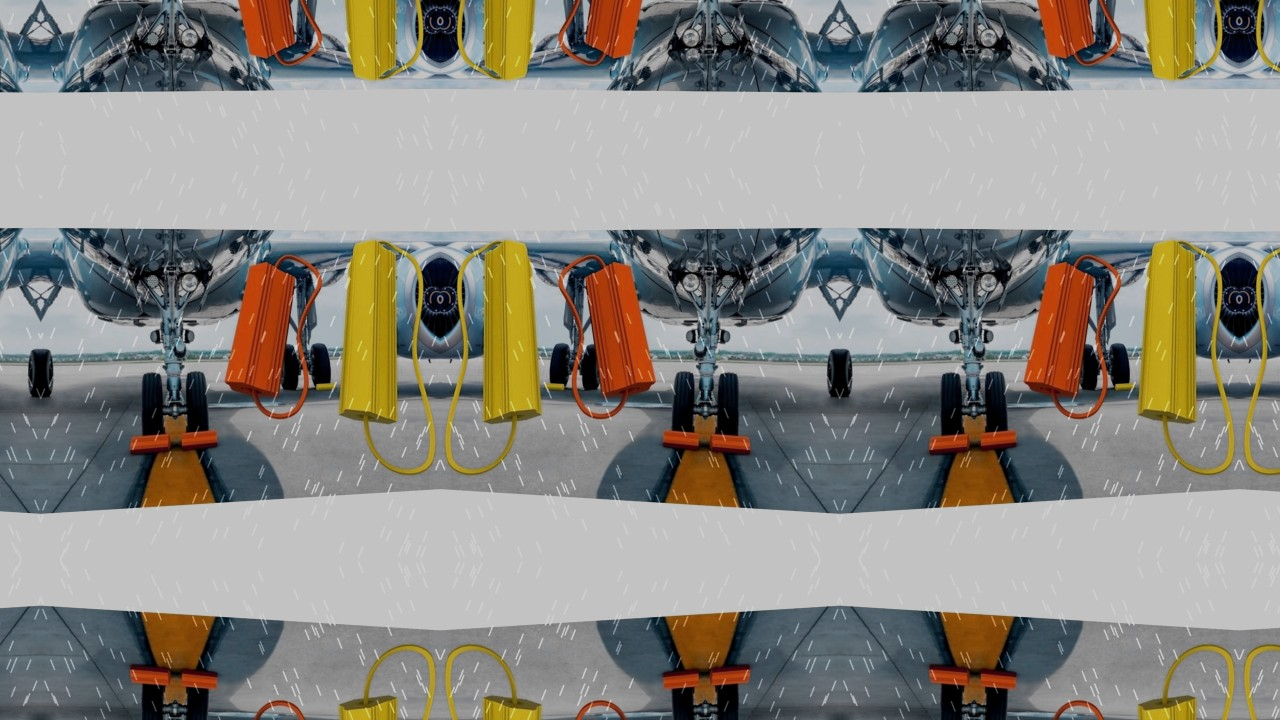chock: (326, 241, 412, 430), (468, 241, 554, 430), (1126, 241, 1212, 430), (216, 263, 304, 402), (576, 263, 664, 402), (1016, 263, 1104, 402), (326, 0, 412, 79), (468, 0, 554, 79), (1126, 0, 1212, 79), (216, 0, 304, 57), (576, 0, 664, 57), (1016, 0, 1104, 57), (326, 690, 412, 720), (468, 690, 554, 720), (1126, 690, 1212, 720), (1268, 241, 1280, 430), (127, 432, 173, 456), (707, 432, 753, 456), (927, 432, 973, 456), (127, 664, 173, 688), (707, 664, 753, 688), (927, 664, 973, 688), (179, 430, 219, 450), (661, 430, 701, 450), (979, 430, 1019, 450), (179, 670, 219, 690), (661, 670, 701, 690), (979, 670, 1019, 690), (314, 381, 336, 391), (544, 381, 566, 391), (1114, 381, 1136, 391)
wheel: (139, 372, 164, 436), (716, 372, 741, 436), (939, 372, 964, 436), (184, 371, 209, 433), (671, 371, 696, 433), (984, 371, 1009, 433), (308, 341, 331, 387), (549, 341, 572, 387), (1108, 341, 1131, 387), (277, 343, 299, 389), (581, 343, 603, 389), (1077, 343, 1099, 389), (139, 684, 164, 720), (716, 684, 741, 720), (939, 684, 964, 720), (184, 687, 209, 720), (671, 687, 696, 720), (984, 687, 1009, 720), (26, 348, 40, 398), (40, 348, 54, 398), (826, 348, 840, 398), (840, 348, 854, 398)
